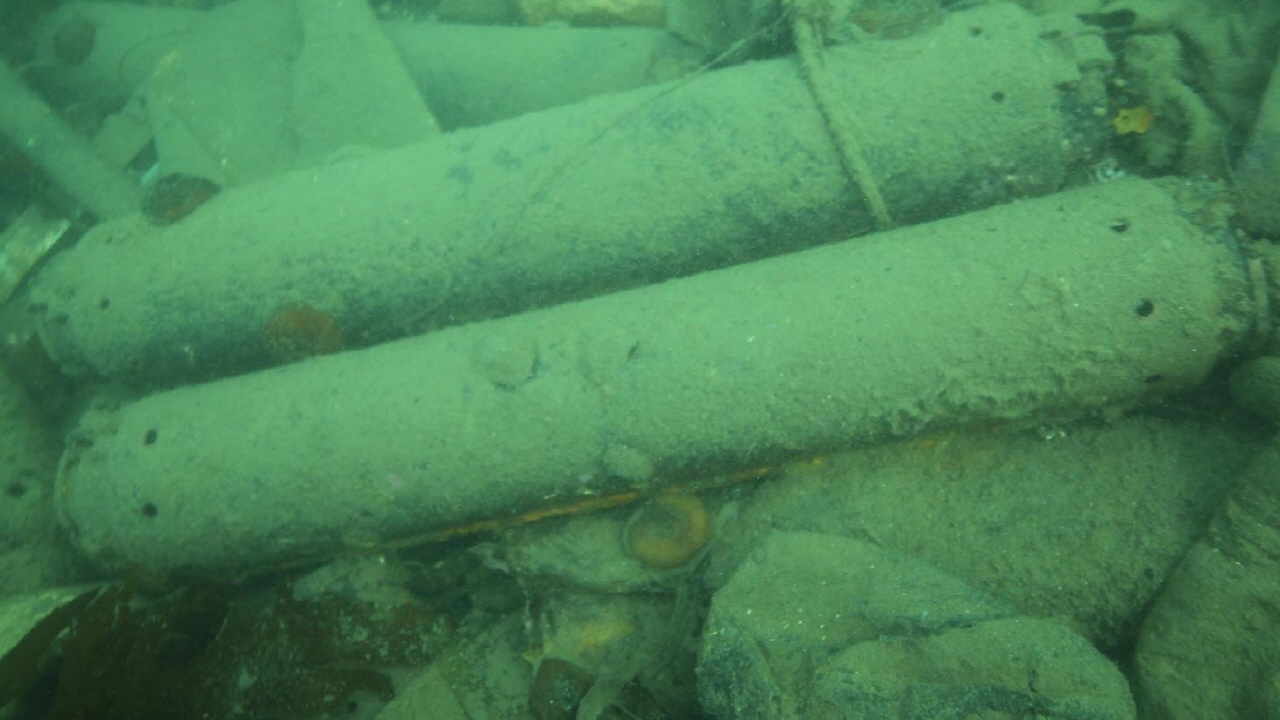eel fish trap: (54, 175, 1272, 571), (32, 1, 1117, 381)
rope: (783, 11, 900, 236)
